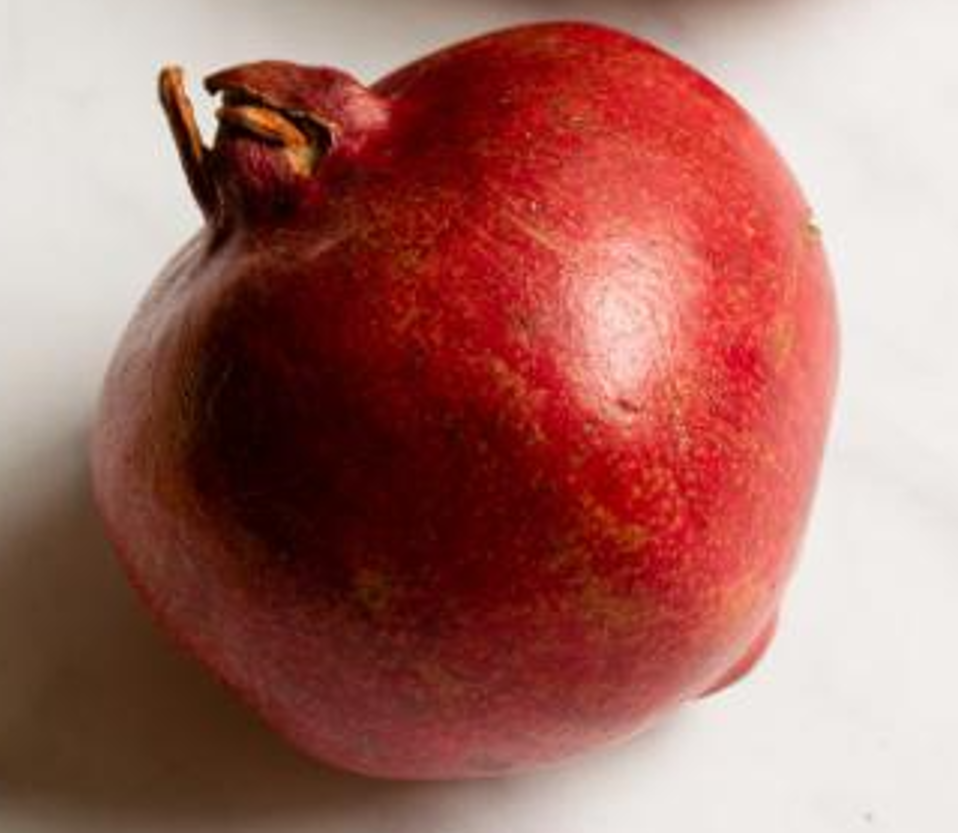pomegranate_A: (88, 19, 842, 784)
